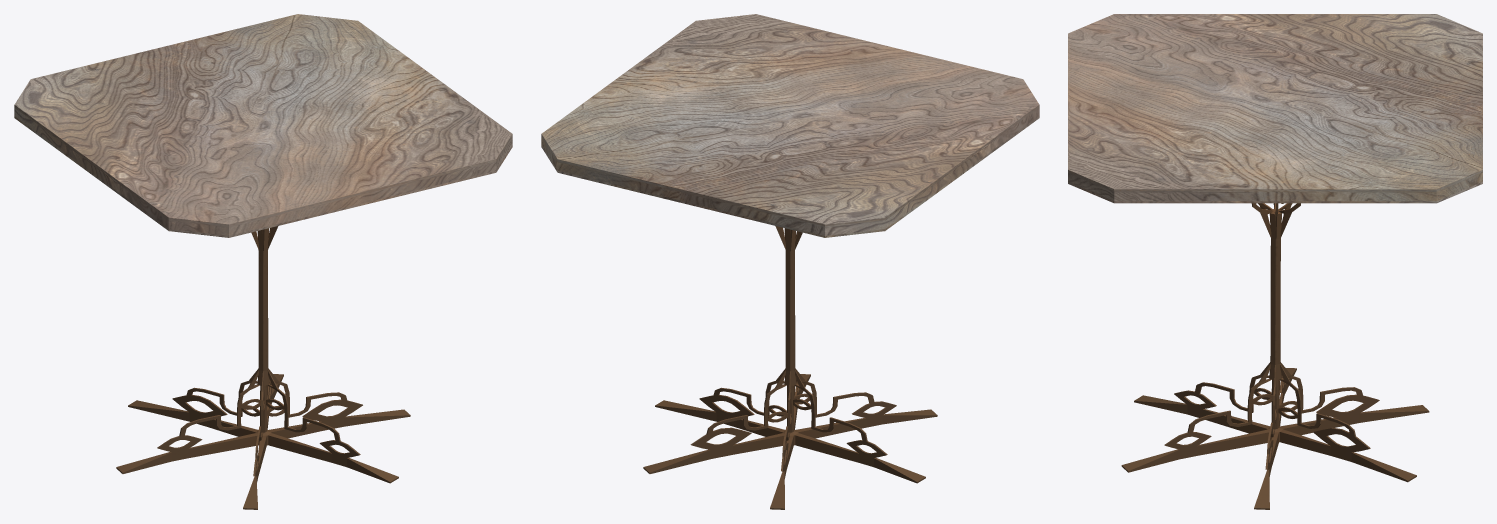
Rendered from a_table.glb.
3 renders of one model, left to right at view 1: azimuth 30°, elevation 25°; view 2: azimuth 150°, elevation 25°; view 3: azimuth 270°, elevation 25°, orthographic. The views are drawn at different scales.
Visible parts, largest first — view 1: Object_3, Object_2; view 2: Object_3, Object_2; view 3: Object_3, Object_2.
Part boxes in pixels (<box>): Object_3: <box>14,14,512,237</box>; Object_2: <box>116,226,410,509</box>; Object_3: <box>541,14,1039,237</box>; Object_2: <box>643,226,937,509</box>; Object_3: <box>1068,14,1482,203</box>; Object_2: <box>1121,203,1429,509</box>.
Size of the model in its own units: 10.41 by 9.36 by 10.41.
2 materials, 2 textured.
